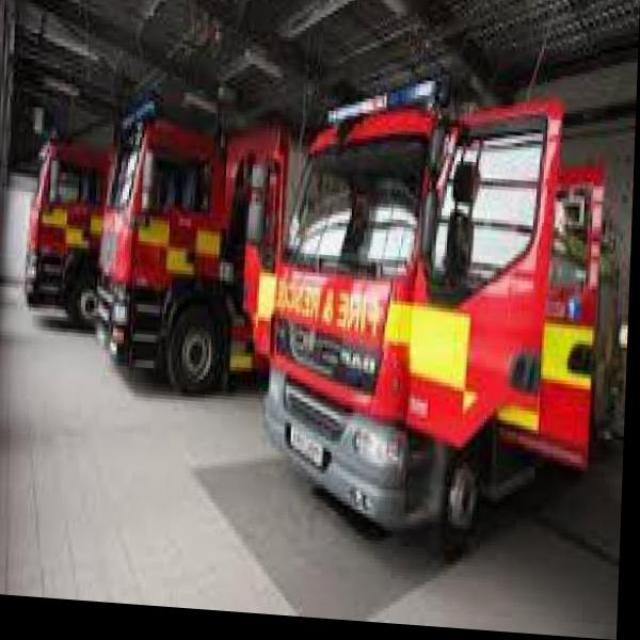emergency: (262, 80, 626, 566), (98, 99, 310, 408), (23, 132, 176, 328)
